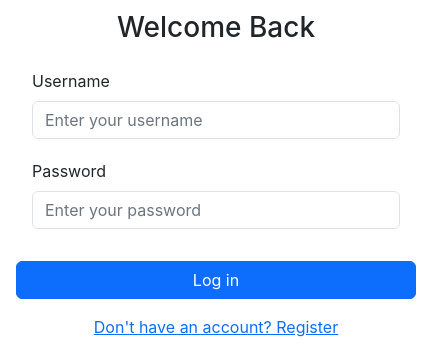
Test case: Login Component › Login Flow › shows loading state during login
Type "admin" into the field labelled "Username" at coordinates (216, 120), box [32,101,400,139]
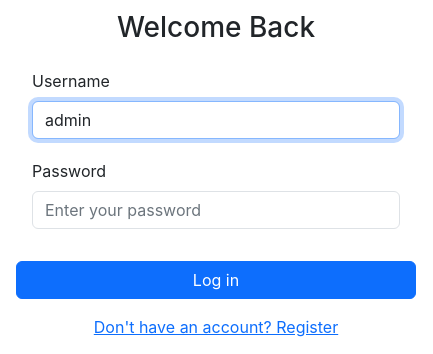
Type "888888" into the password field labelled "Password" at coordinates (216, 210), box [32,191,400,229]
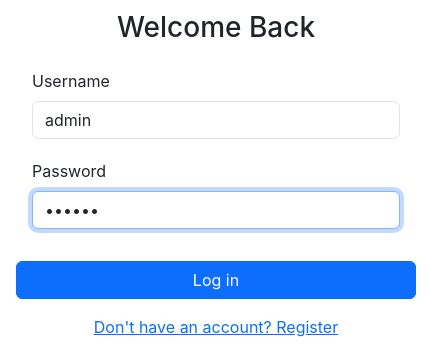
Click the button "Log in" at coordinates (216, 280), box [16,261,416,299]
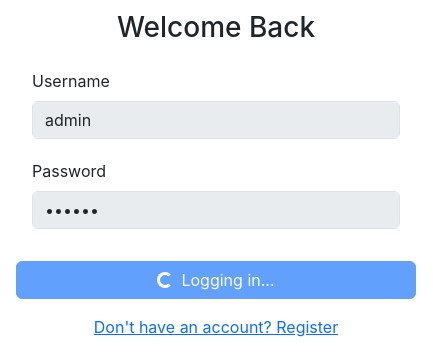
expect the button "Logging in..." is disabled: met, box [16,261,416,299]
